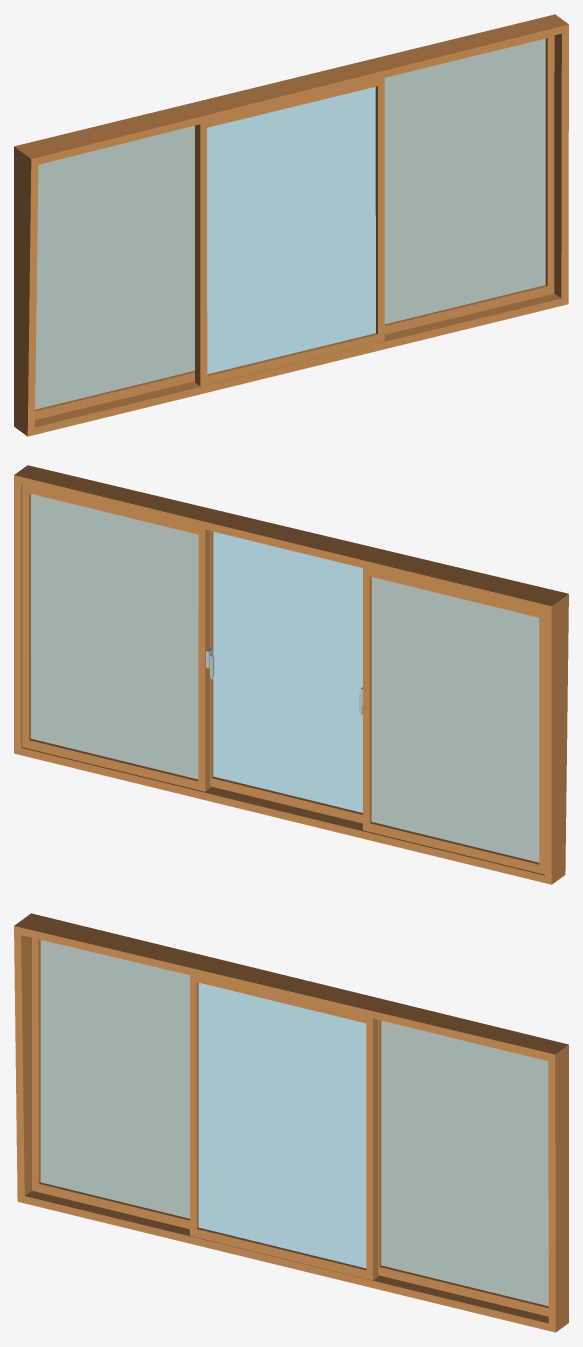
Rendered from Window 10.fbx.
3 views of the same model, one above another, from view 1: azimuth 30°, elevation 25°; view 2: azimuth 150°, elevation 25°; view 3: azimuth 330°, elevation 25° (orthographic).
Parts seen in each view (by area): view 1: Node 1, Node 0, Node 2, Node 3; view 2: Node 0, Node 2, Node 1, Node 3; view 3: Node 1, Node 0, Node 2, Node 3.
Boxes of the visible parts, x1=… form: Node 1: x1=195, y1=78, x2=384, y2=386; Node 0: x1=384, y1=35, x2=554, y2=334; Node 2: x1=35, y1=125, x2=194, y2=419; Node 3: x1=14, y1=14, x2=568, y2=436; Node 0: x1=22, y1=484, x2=214, y2=791; Node 2: x1=359, y1=568, x2=544, y2=874; Node 1: x1=210, y1=530, x2=362, y2=823; Node 3: x1=14, y1=465, x2=568, y2=884; Node 1: x1=190, y1=975, x2=378, y2=1280; Node 0: x1=378, y1=1020, x2=548, y2=1316; Node 2: x1=32, y1=937, x2=189, y2=1228; Node 3: x1=14, y1=913, x2=568, y2=1332.
Bounding box in the file's own units: 3.74 × 1.85 × 0.207.
